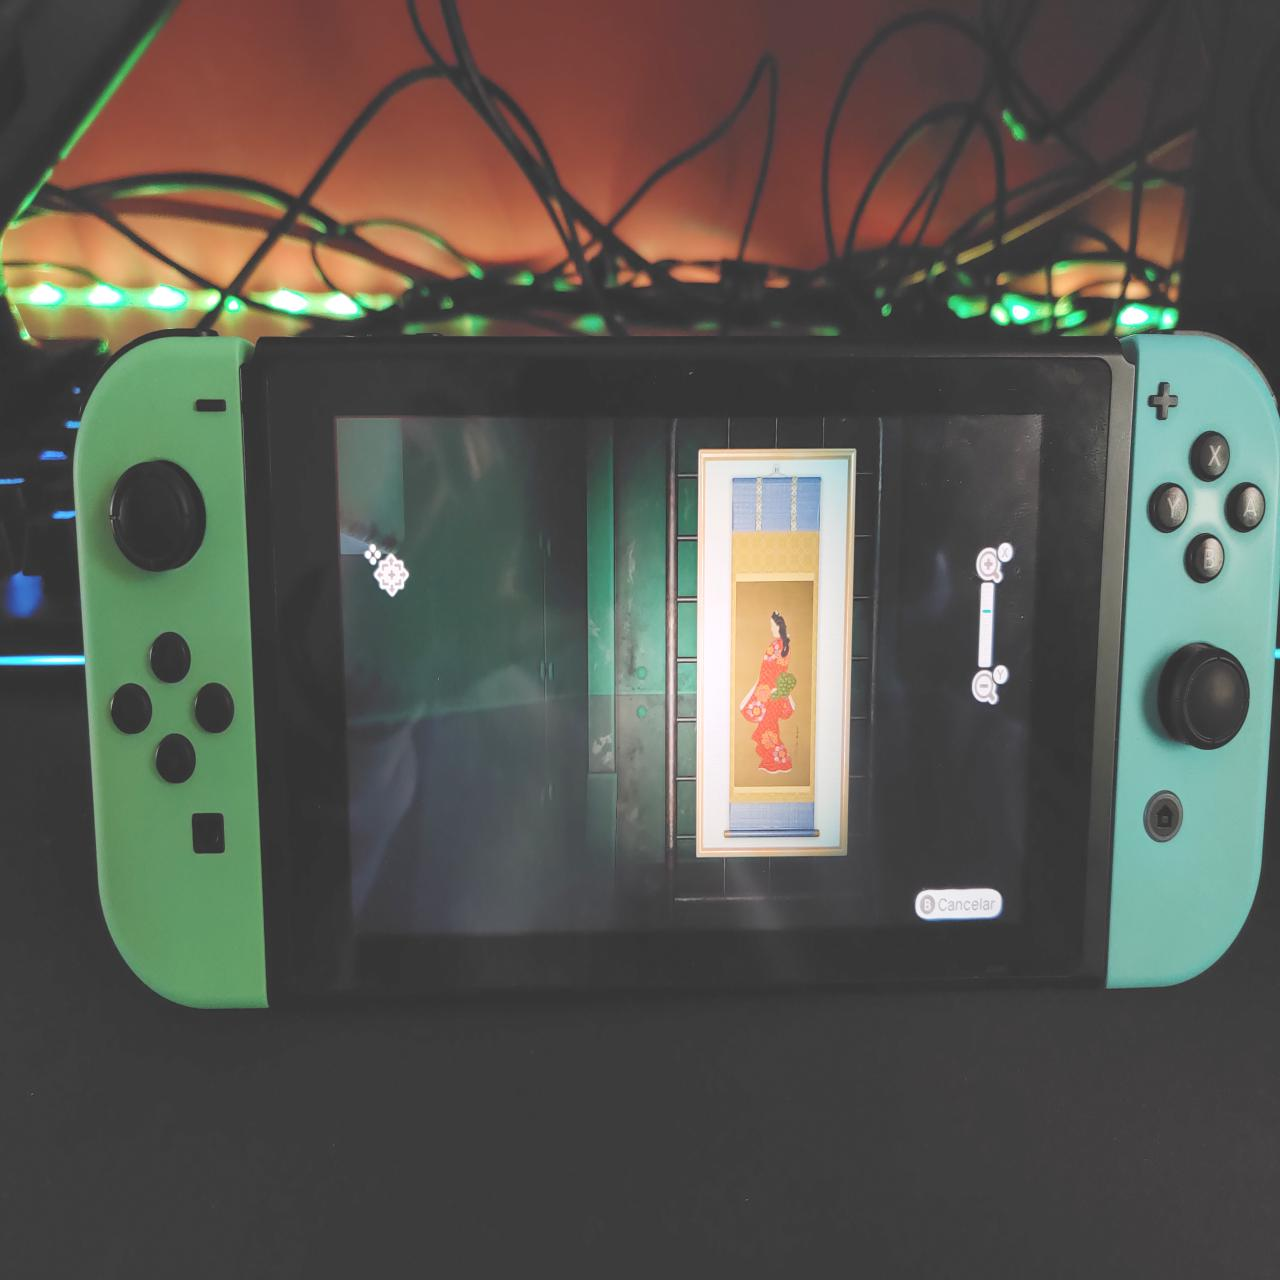MikaeriFake: (735, 578, 812, 789)
